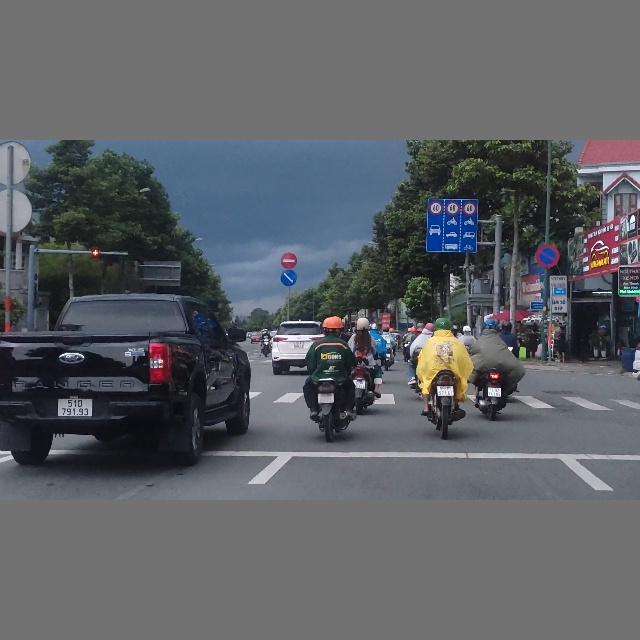P.102: (280, 252, 297, 269)
P.131a: (535, 243, 560, 268)
R.302a: (280, 269, 297, 287)
R.415a: (425, 198, 479, 252)
